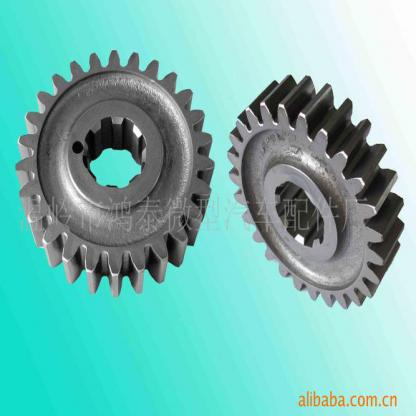FOD: (14, 47, 216, 302), (225, 70, 406, 308)
